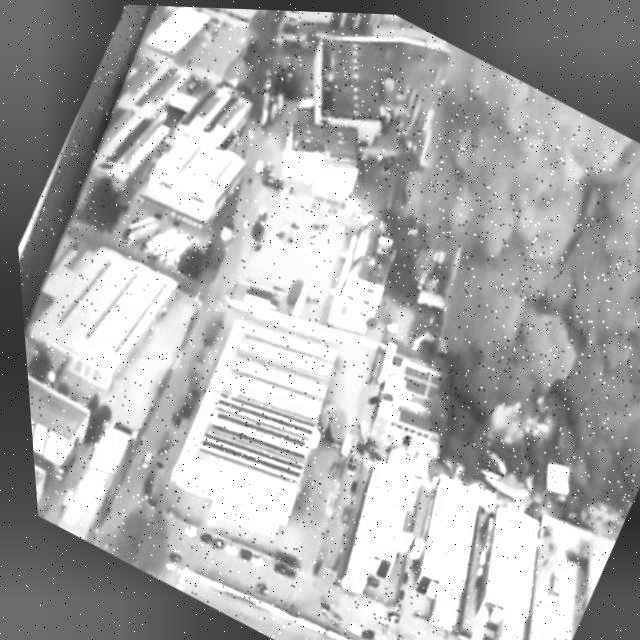Smoke: (268, 10, 640, 459)
